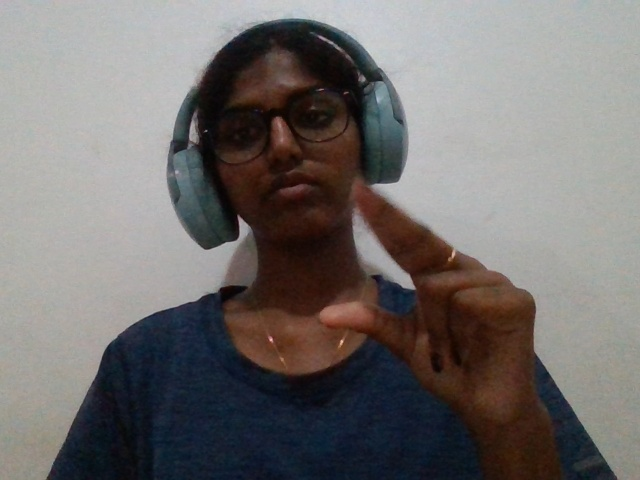No: (289, 165, 597, 463)
